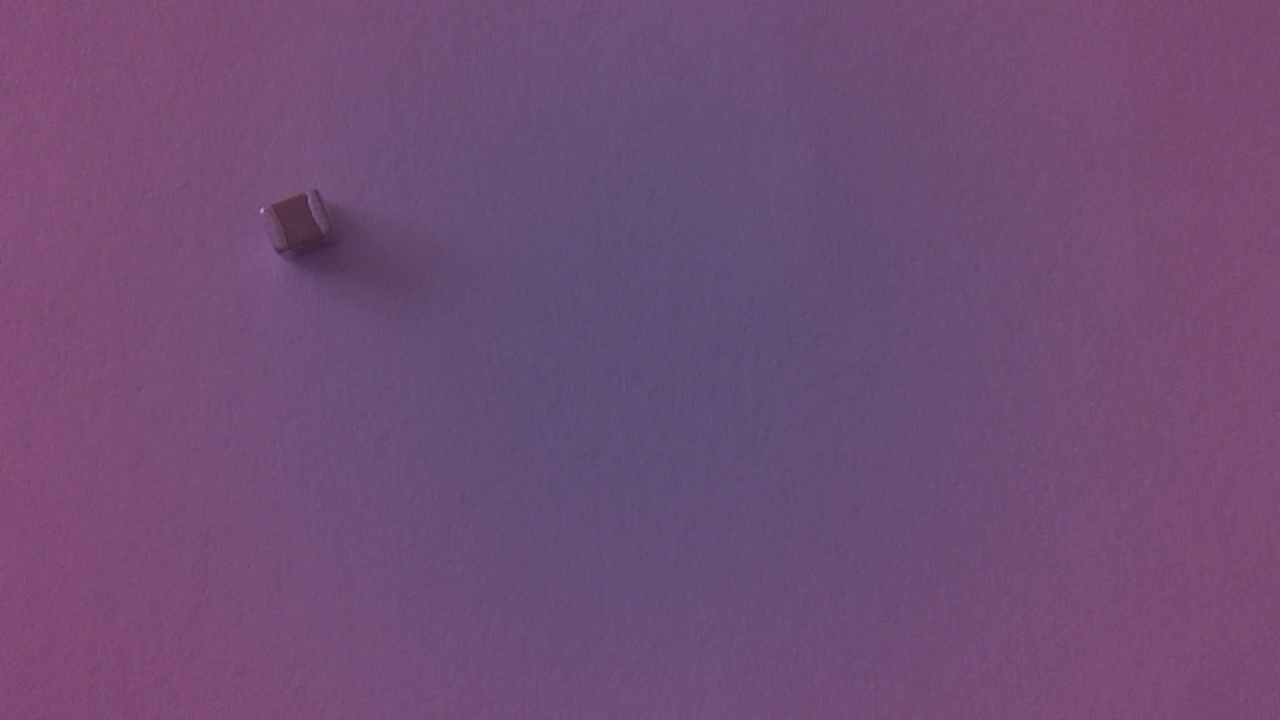Condensator: (259, 189, 347, 268)
